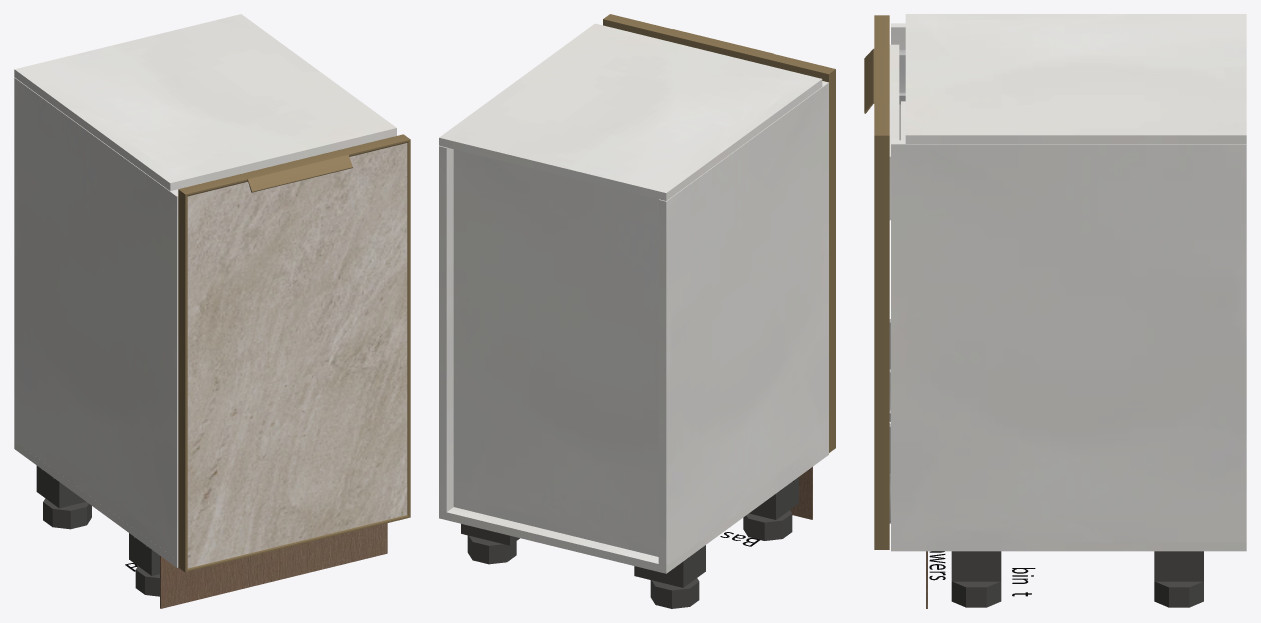
The model's file is BC-GD-TTS-ST-1BL-1HF-XXX-450-720-560-15.glb.
The picture shows the model from 3 angles, left to right: view 1: azimuth 30°, elevation 25°; view 2: azimuth 150°, elevation 25°; view 3: azimuth 270°, elevation 25°; orthographic projection. The views are drawn at different scales.
Visible parts, largest first — view 1: Object_node_61, TP_node, TP_node_1, Object_node_63, Extrusion_node_4, ExtrSplGeo, Extrusion_node_2, TP, Extrusion_node, Foot, Plate, Extrusion_node_3 (+2 smaller); view 2: TP_node_7, TP_node, TP_node_1, TP_node_0, TP, Extrusion_node_4, Extrusion_node, ExtrSplGeo, Plate, Foot, Foot_node_0, Foot_node (+3 smaller); view 3: TP_node_0, TP_node_1, Extrusion_node_2, TP, Plate_node_1, Plate_node, ExtrSplGeo, Foot_node_1, Foot_node, TP_node_6, Extrusion_node.
Boxes of the visible parts, box(x1,y1,x2,y2) form: Object_node_61: box(187, 143, 407, 568); TP_node: box(14, 77, 178, 559); TP_node_1: box(14, 14, 396, 190); Object_node_63: box(160, 523, 387, 608); Extrusion_node_4: box(178, 189, 187, 572); ExtrSplGeo: box(241, 149, 352, 192); Extrusion_node_2: box(407, 139, 410, 517); TP: box(14, 441, 178, 567); Extrusion_node: box(178, 134, 410, 196); Foot: box(43, 498, 91, 529); Plate: box(36, 465, 85, 508); Extrusion_node_3: box(186, 515, 409, 572); TP_node_7: box(453, 149, 658, 556); TP_node: box(658, 81, 828, 565); TP_node_1: box(439, 23, 822, 200); TP_node_0: box(439, 146, 453, 512); TP: box(439, 447, 828, 573); Extrusion_node_4: box(822, 69, 835, 452); Extrusion_node: box(603, 14, 835, 78); ExtrSplGeo: box(665, 29, 773, 65); Plate: box(634, 545, 705, 587); Foot: box(650, 578, 699, 608); Foot_node_0: box(743, 510, 792, 540); Foot_node: box(467, 535, 516, 564); TP_node_0: box(891, 140, 1246, 542); TP_node_1: box(905, 14, 1246, 143); Extrusion_node_2: box(874, 135, 889, 549); TP: box(891, 542, 1246, 551); Plate_node_1: box(951, 551, 1001, 581); Plate_node: box(1154, 551, 1203, 581); ExtrSplGeo: box(864, 48, 889, 113); Foot_node_1: box(951, 581, 1001, 607); Foot_node: box(1154, 581, 1203, 607); TP_node_6: box(889, 44, 899, 220); Extrusion_node: box(874, 15, 889, 135).
Size of what is drawn, in the model's own units: 0.45 by 0.82 by 0.6.
Materials: 8 (3 with a texture image).
